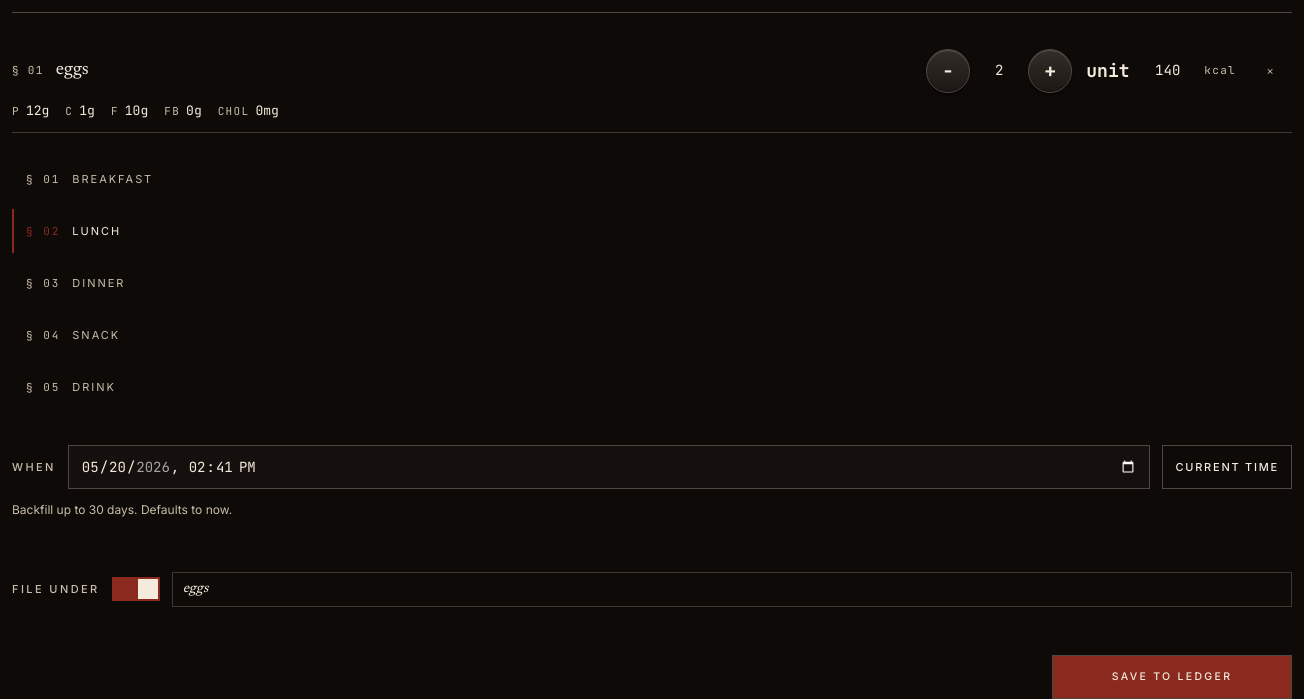
it: <ConfirmationScreen /> › shows a specific error when the server rejects a future logged_at
The image size is (1304, 699).
(page scrolled)
Click the button with test id "confirmation-save" at [1172, 677], box [1052,655,1292,698]
(page scrolled)
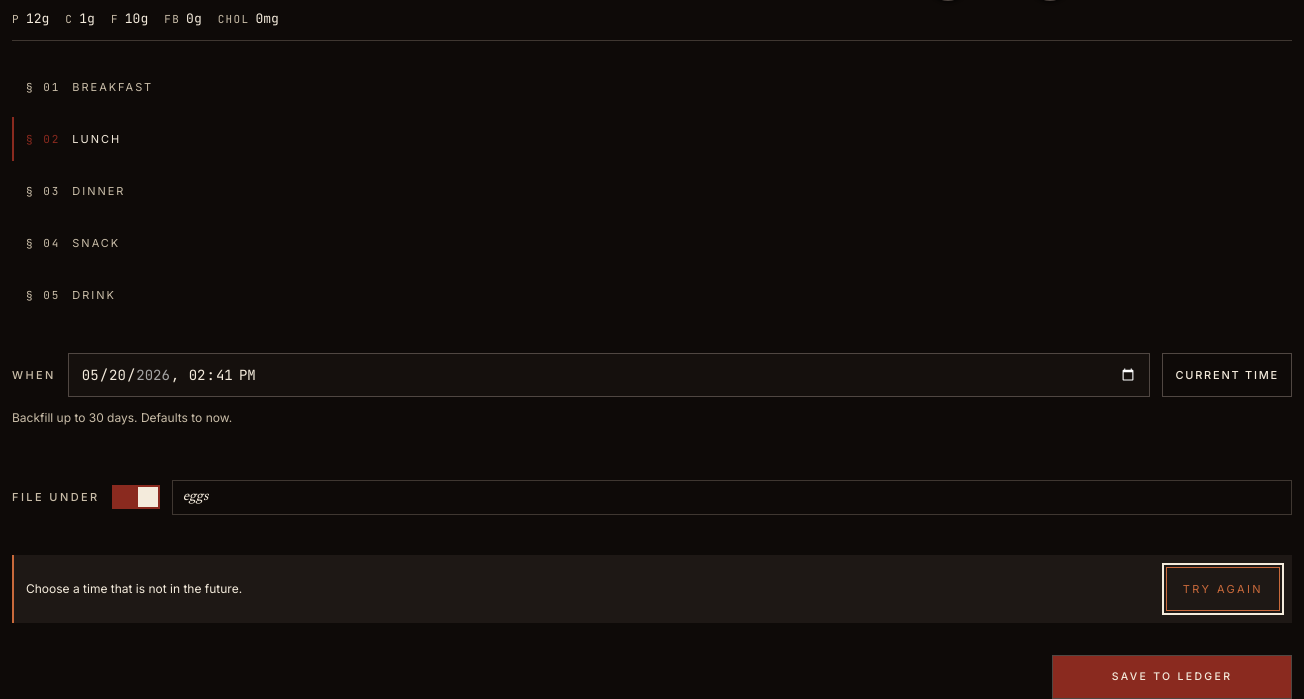
Now the message with test id "confirmation-error-banner" shows "Choose a time that is not in the future.", box [26,581,242,596]
